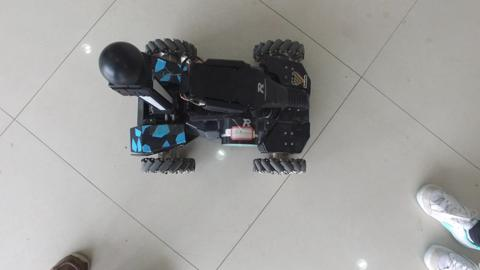chariot: (99, 28, 322, 182)
